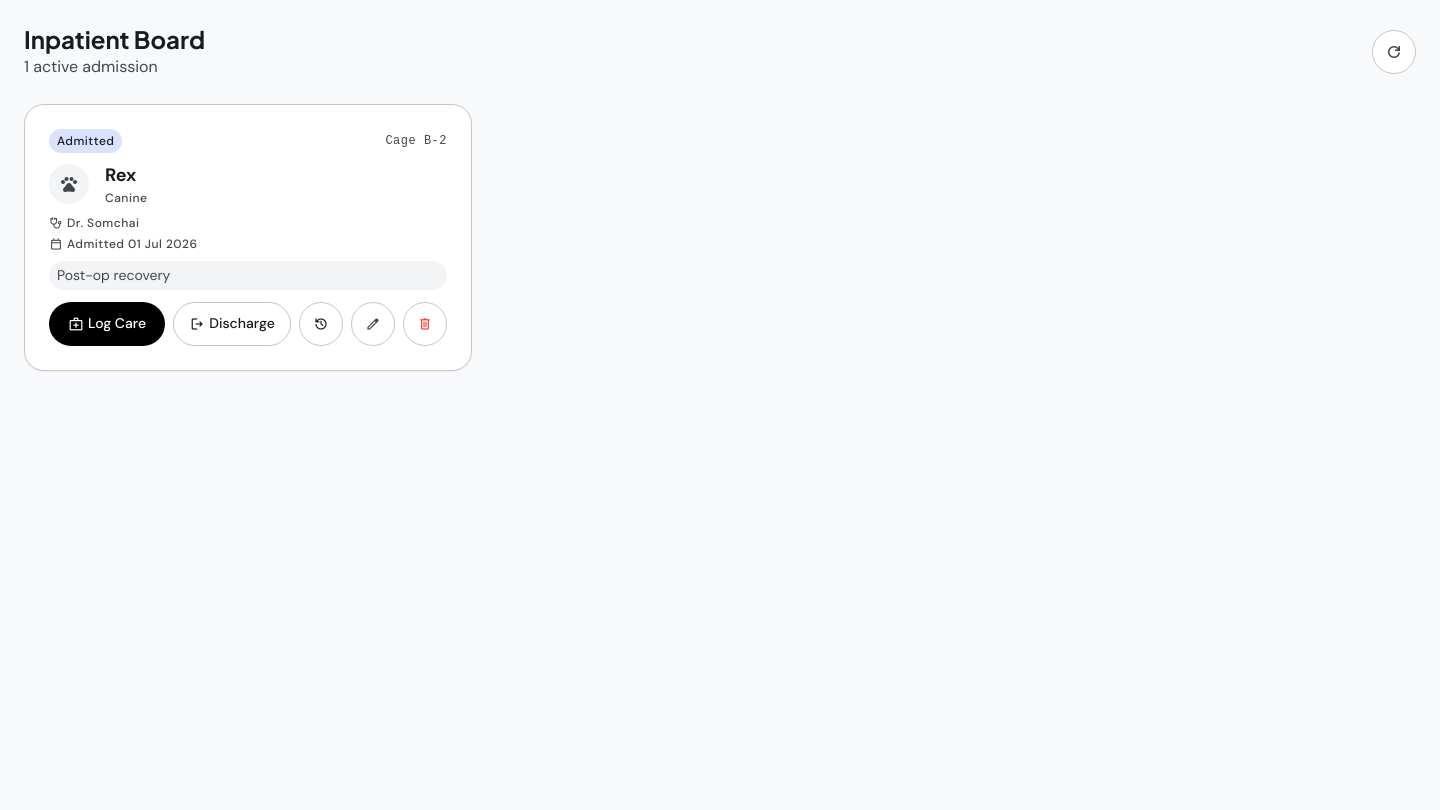
Test: ClinicInpatient — Edit modal close paths (Gate 0, G1) › Cancel unmounts the edit modal
Expected: the text "Rex" is shown, [105, 163, 136, 187]
Click the button named "Edit admission".
click(373, 324)  # box [351, 302, 395, 346]
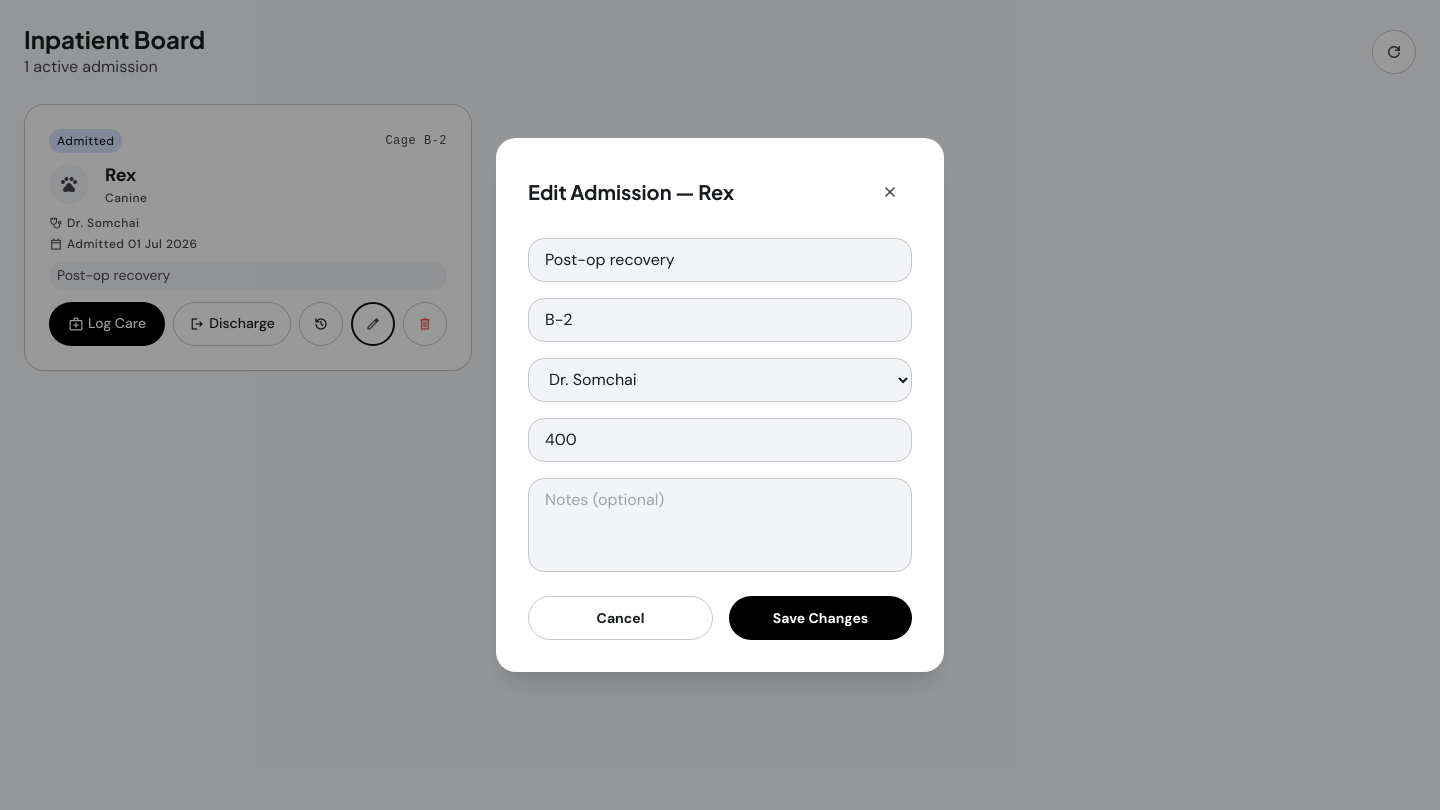
Expected: the heading "Edit Admission — Rex" is shown, [528, 179, 734, 205]
Click the button "Cancel".
click(620, 618)  # box [528, 596, 713, 640]
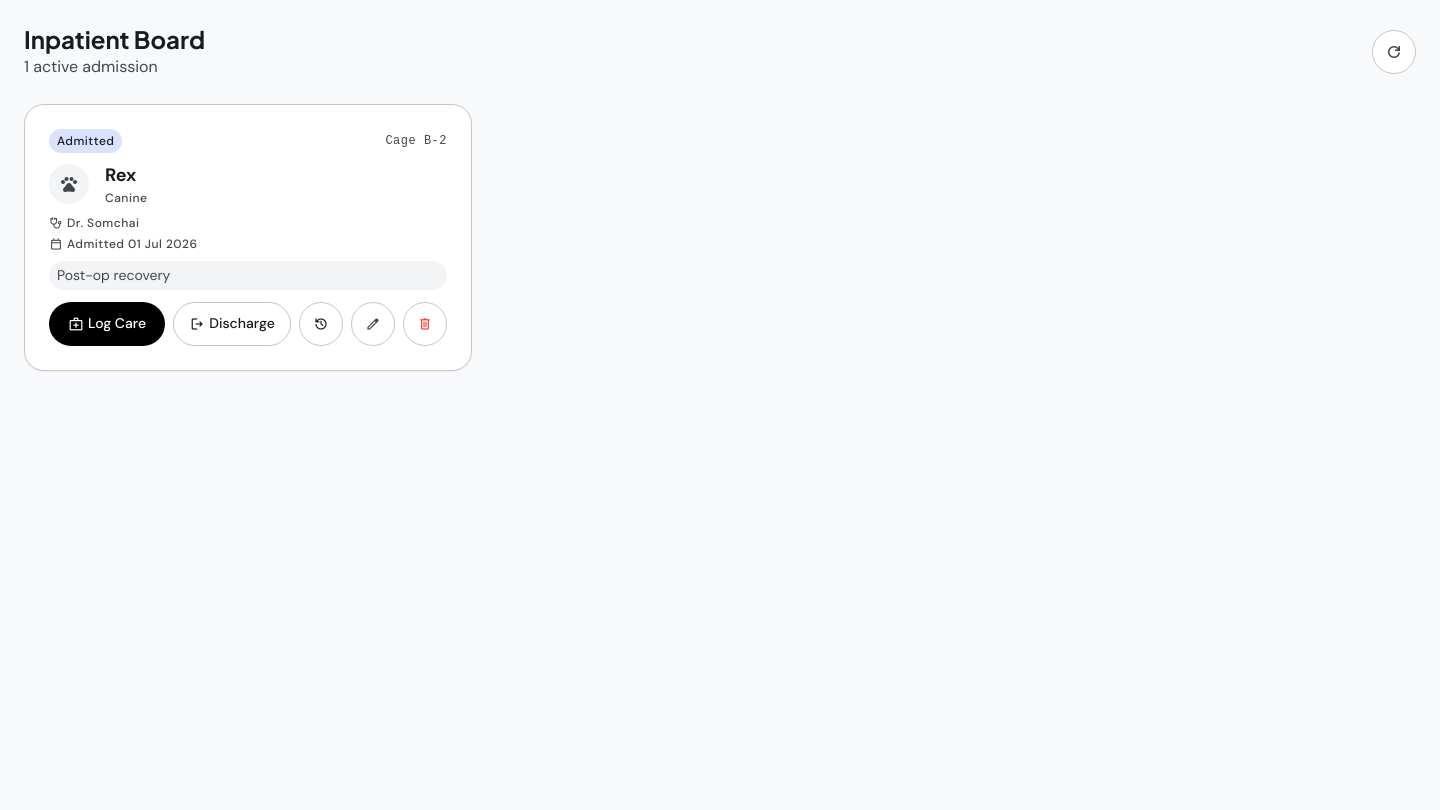
Expected: the heading "Edit Admission — Rex" is gone
